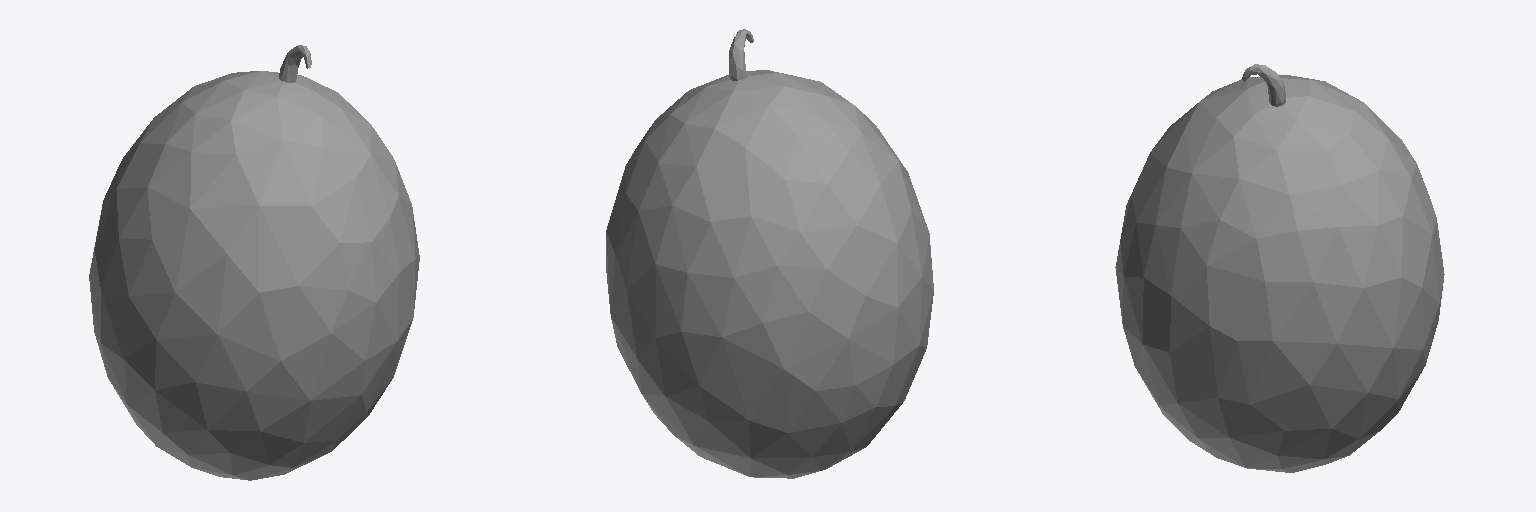
Rendered from OJB.obj.
3 views of the same model, side by side, from view 1: azimuth 30°, elevation 25°; view 2: azimuth 150°, elevation 25°; view 3: azimuth 270°, elevation 25° (orthographic).
Visible parts, largest first — view 1: Sphere_Sphere.014; view 2: Sphere_Sphere.014; view 3: Sphere_Sphere.014.
Boxes of the visible parts, <box> form: Sphere_Sphere.014: <box>89,45,419,480</box>; Sphere_Sphere.014: <box>606,29,933,478</box>; Sphere_Sphere.014: <box>1115,64,1444,472</box>.
Bounding box in the file's own units: 10.22 × 14.32 × 10.22.